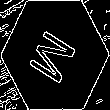M_SE: (26, 23, 84, 87)
